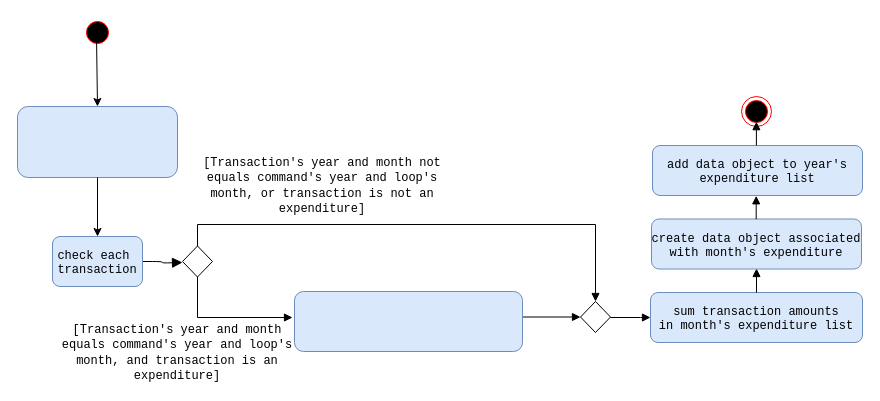
The diagram is 880 pixels wide and 401 high, and some of its shapes have lost their labels. The centre of each missing label's shape, as x and y in pixels:
"add transaction amount to month's expenditure list" goes at point (408, 321).
"initialise each month's expenditure list" goes at point (97, 142).
